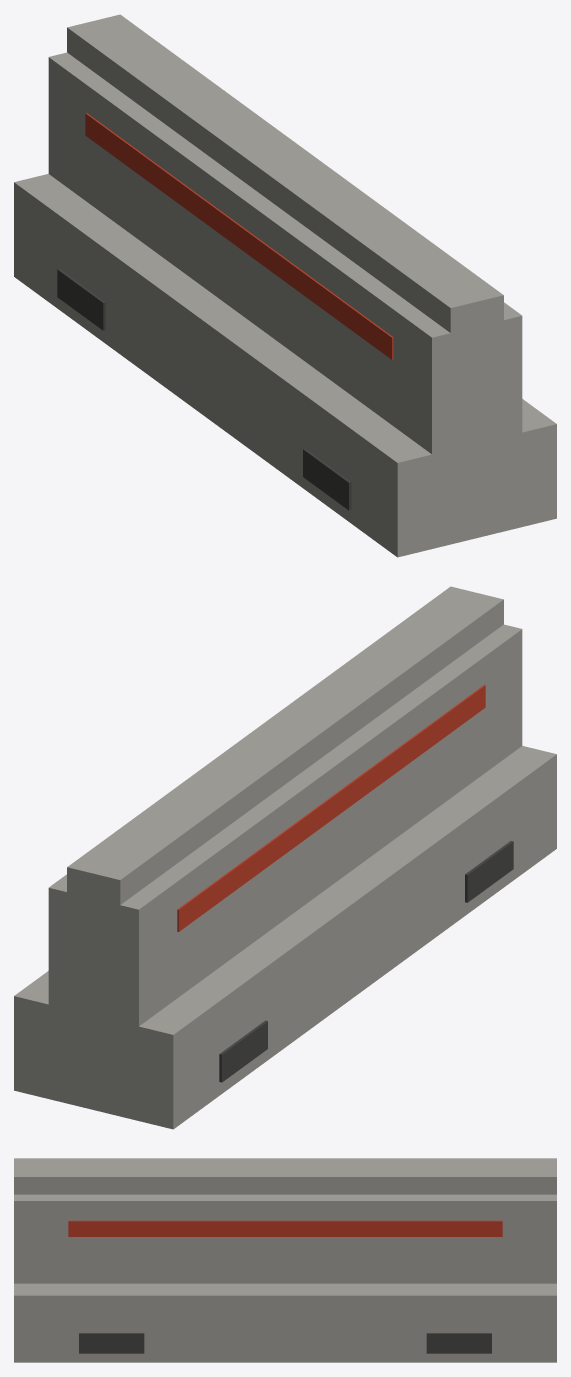
The model's file is jersey_barrier.glb.
3 renders of one model, top to bottom at view 1: azimuth 30°, elevation 25°; view 2: azimuth 150°, elevation 25°; view 3: azimuth 270°, elevation 25°, orthographic. The views are drawn at different scales.
Parts seen in each view (by area): view 1: jersey_barrier; view 2: jersey_barrier; view 3: jersey_barrier.
Part boxes in pixels (left/top/right/bottom): jersey_barrier: left=14, top=14, right=556, bottom=557; jersey_barrier: left=14, top=586, right=556, bottom=1129; jersey_barrier: left=14, top=1158, right=556, bottom=1362.
Bounding box in the file's own units: 0.62 × 0.85 × 2.5.
